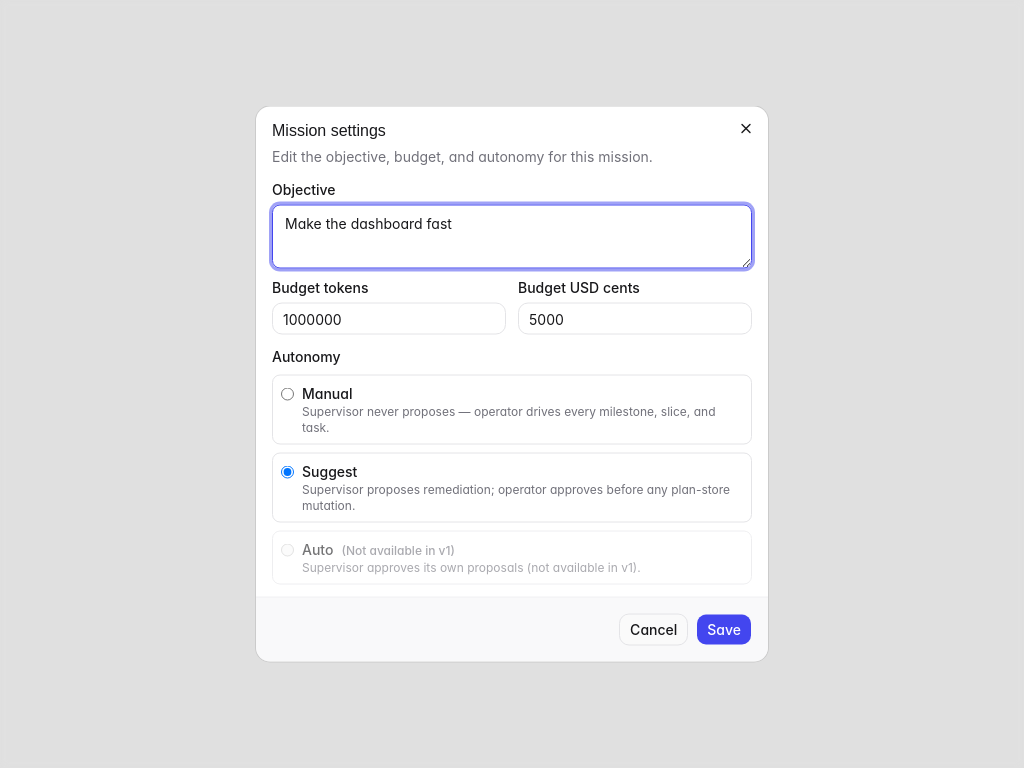
mission_settings_dialog — budget validation › rejects a zero budget_tokens value
Replace the text in the number field with test id "mission-budget-tokens" with "0" at (389, 318), box [272,302,506,334]
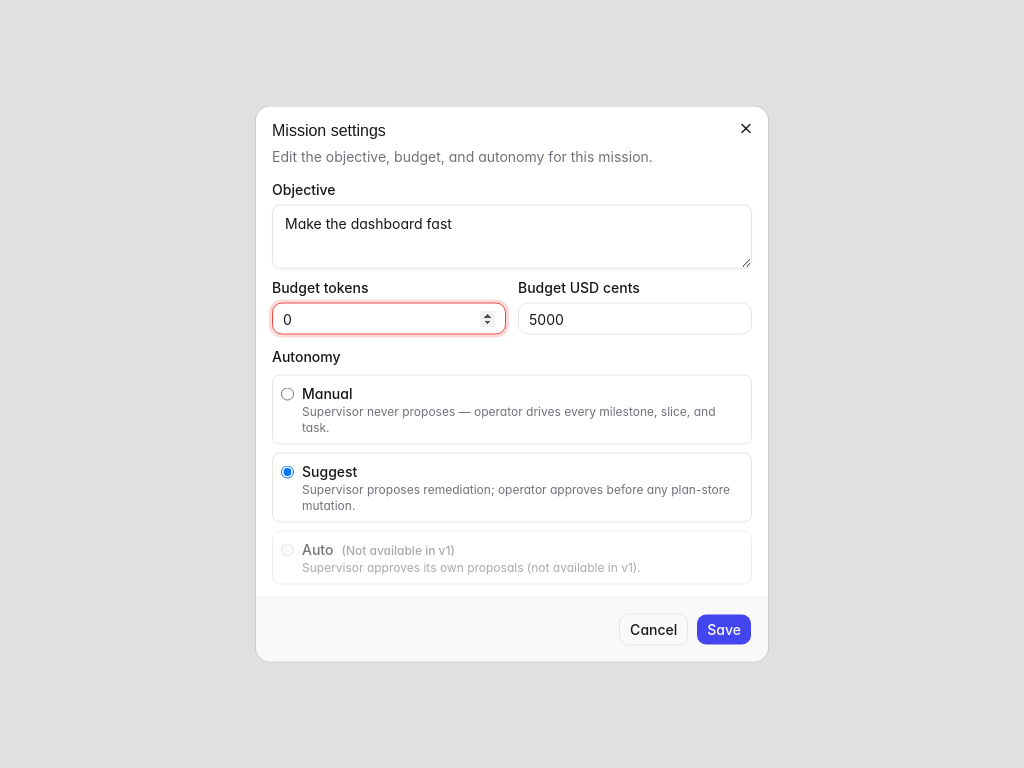
Click the button with test id "mission-settings-save" at (724, 630), box [696,614,752,646]
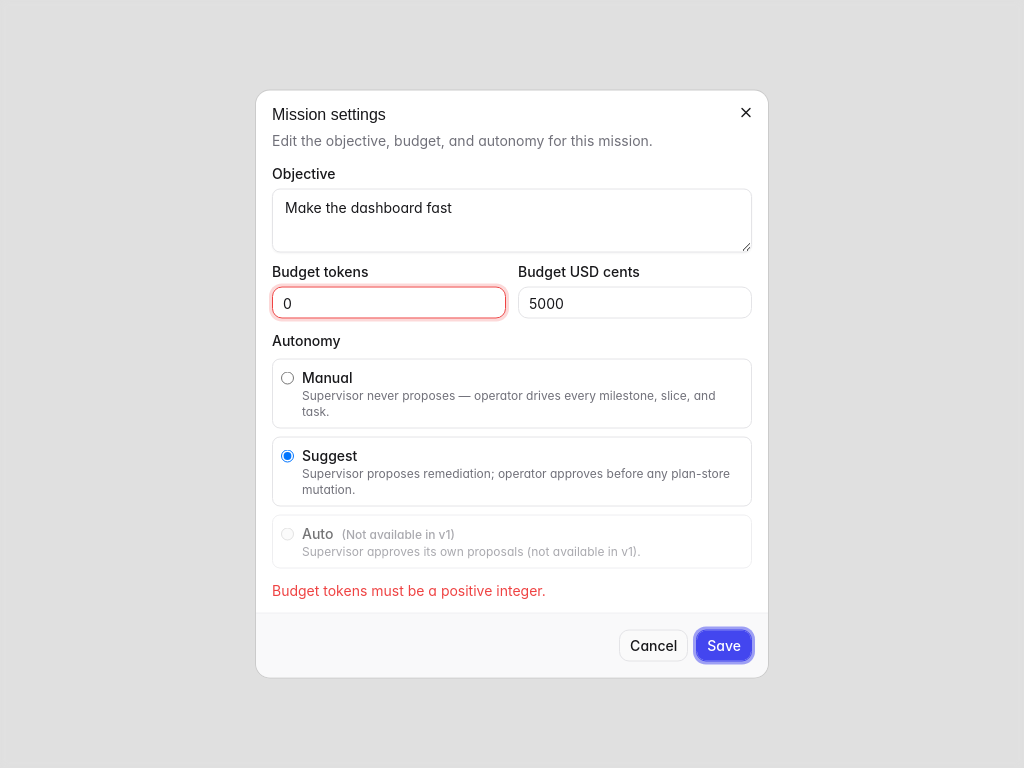
Now the message with test id "mission-settings-error" shows "positive integer", box [272,582,546,598]
